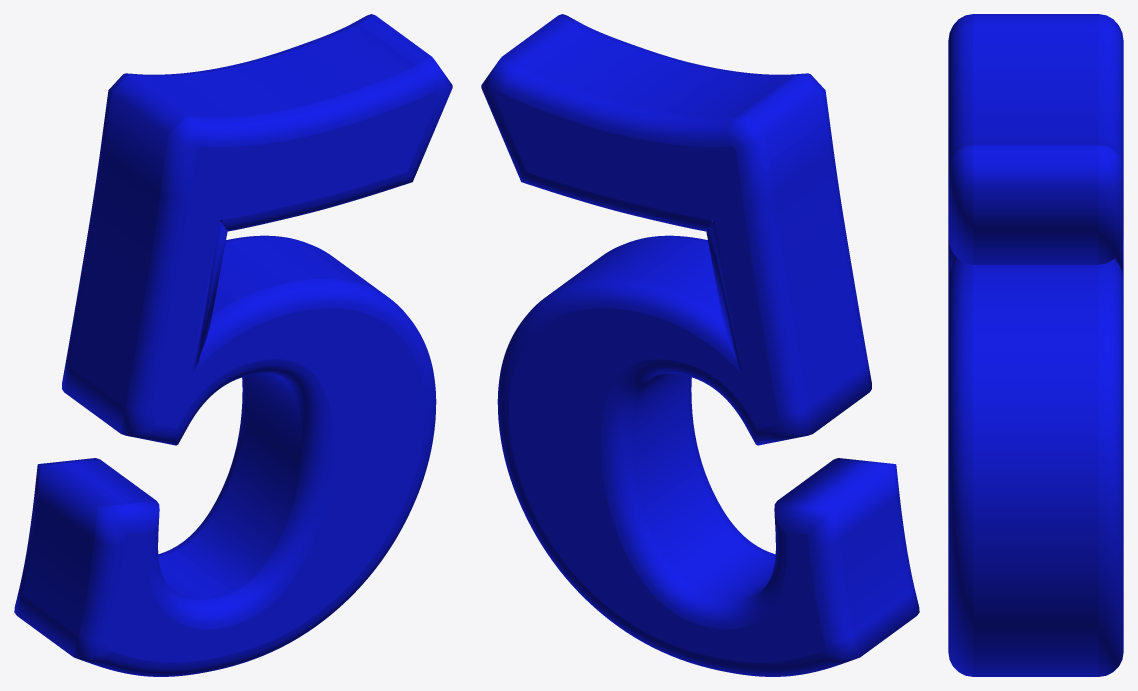
File: number_5.fbx
The picture shows the model from 3 angles, left to right: view 1: azimuth 30°, elevation 25°; view 2: azimuth 150°, elevation 25°; view 3: azimuth 270°, elevation 25°; orthographic projection. The views are drawn at different scales.
Parts seen in each view (by area): view 1: Text; view 2: Text; view 3: Text.
Part boxes in pixels (<box>): Text: <box>14,14,452,676</box>; Text: <box>481,14,919,676</box>; Text: <box>948,14,1123,676</box>.
Bounding box in the file's own units: 190 × 270 × 69.41.
